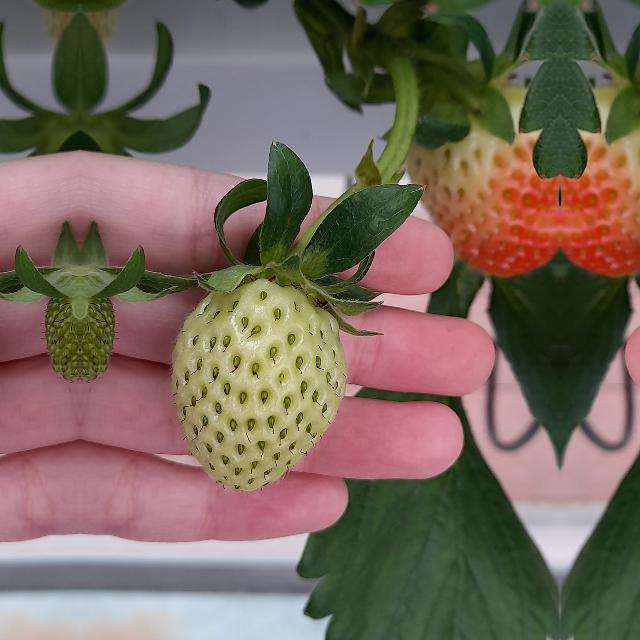Health_25: (170, 278, 346, 490)
Health_75: (400, 57, 560, 287), (560, 57, 640, 287)
